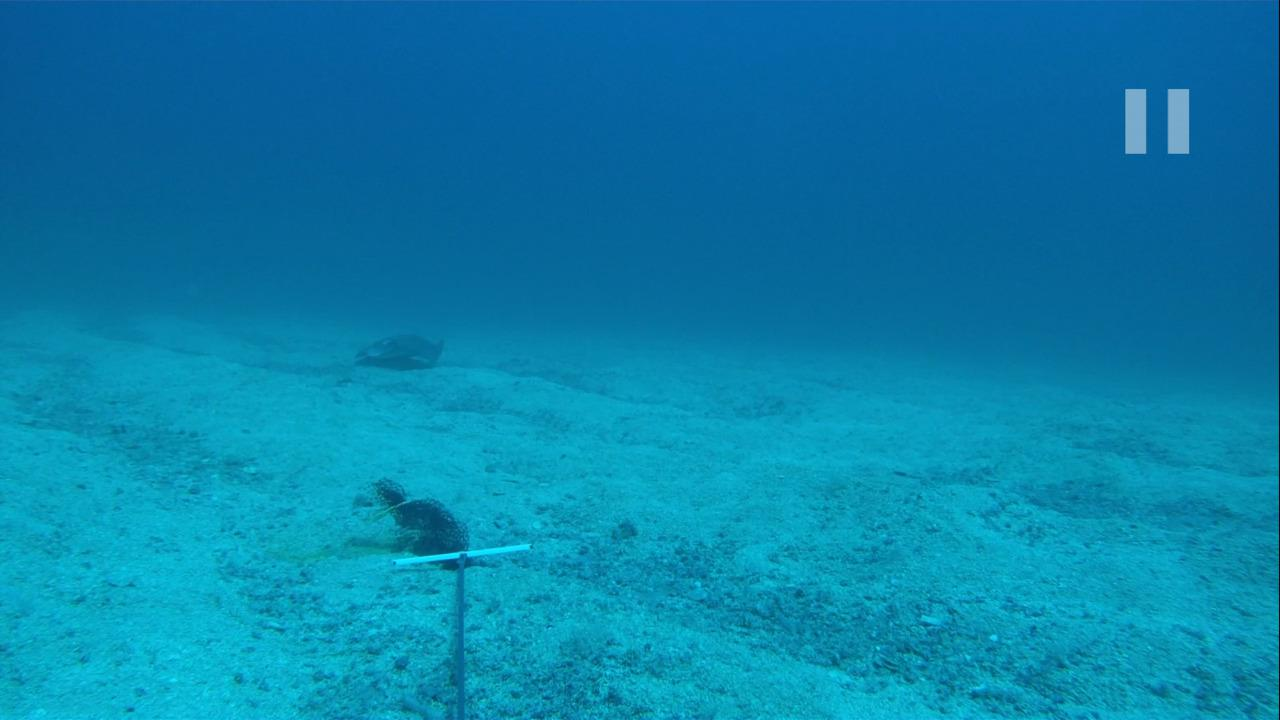myliobatis: (323, 324, 450, 375)
